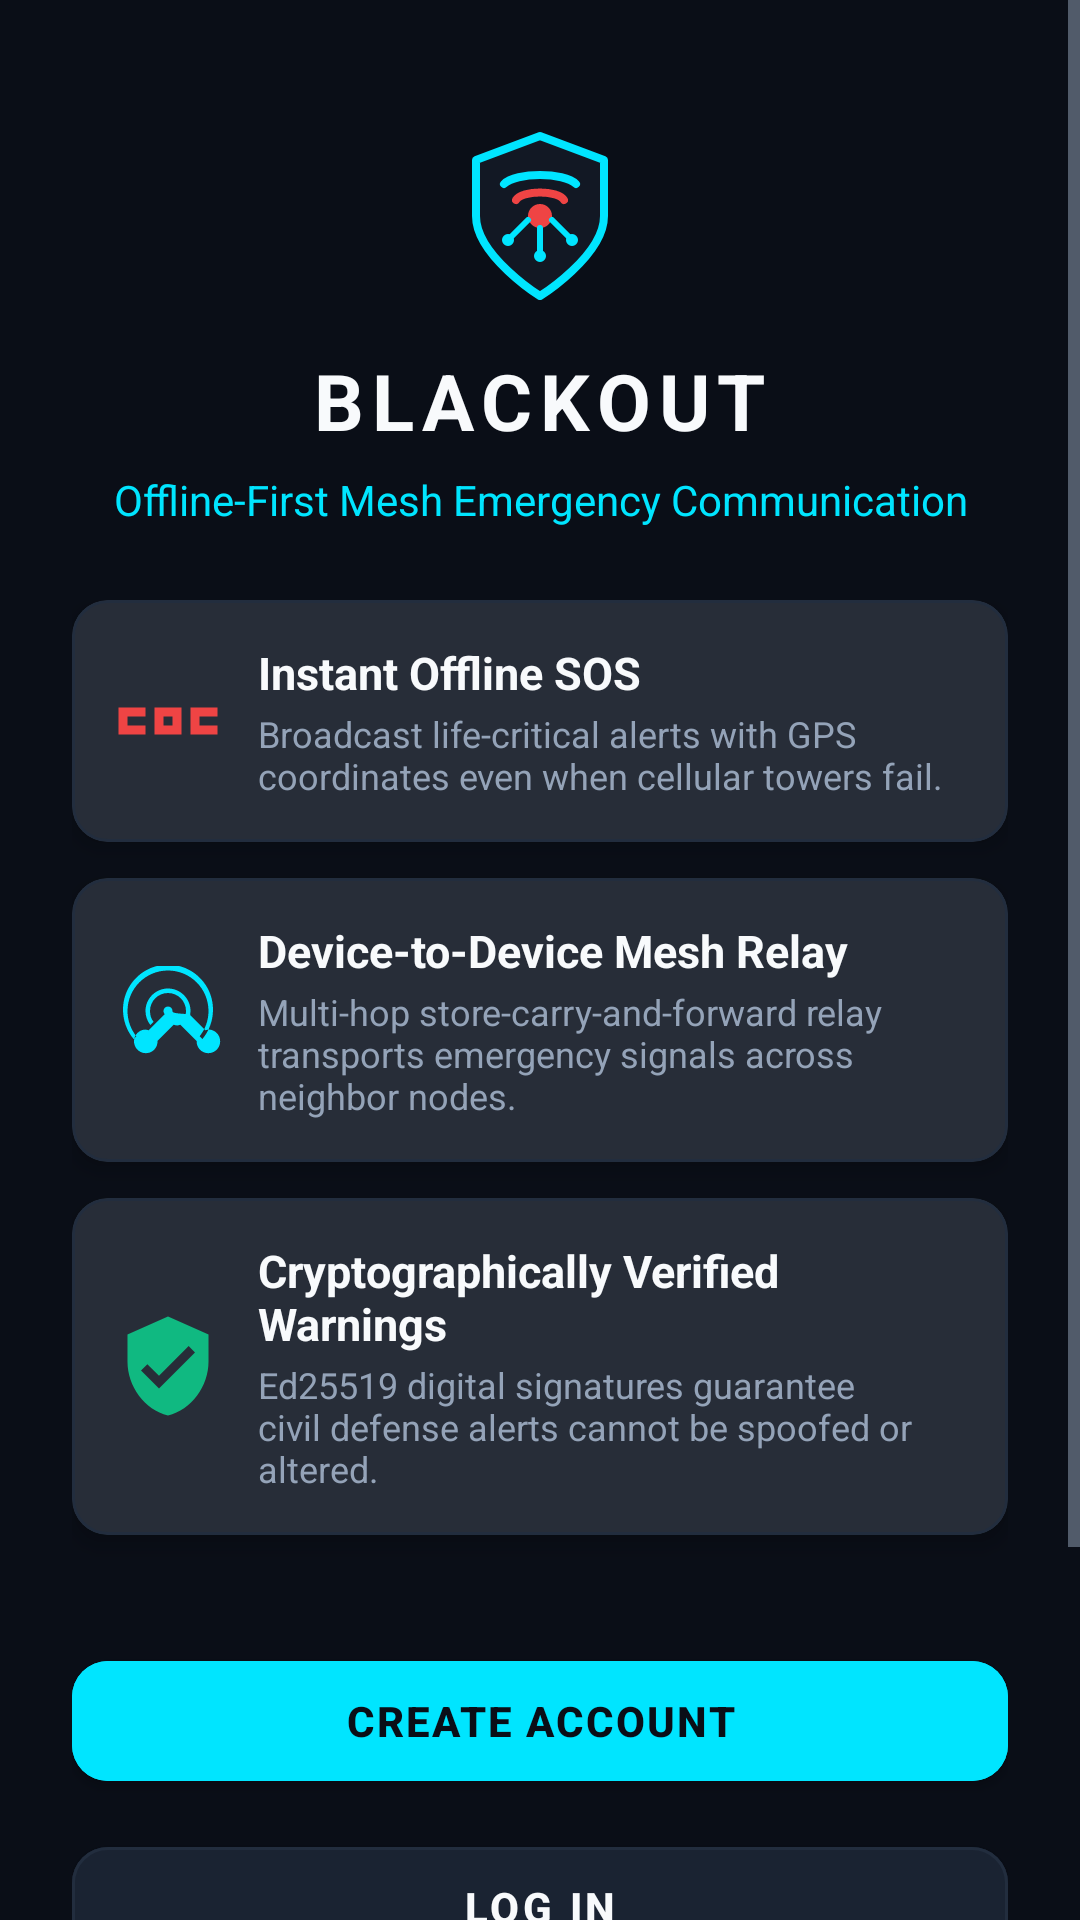

Where icons sit on this 1080px×1920px app screen, as (x1, y1, x2, y2):
radio mesh: (123, 966, 221, 1054)
shield check: (127, 1316, 209, 1416)
